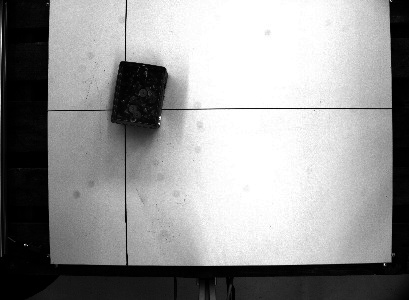klts: (109, 60, 170, 133)
